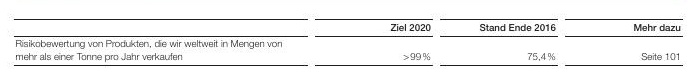table: (0, 0, 699, 82)
